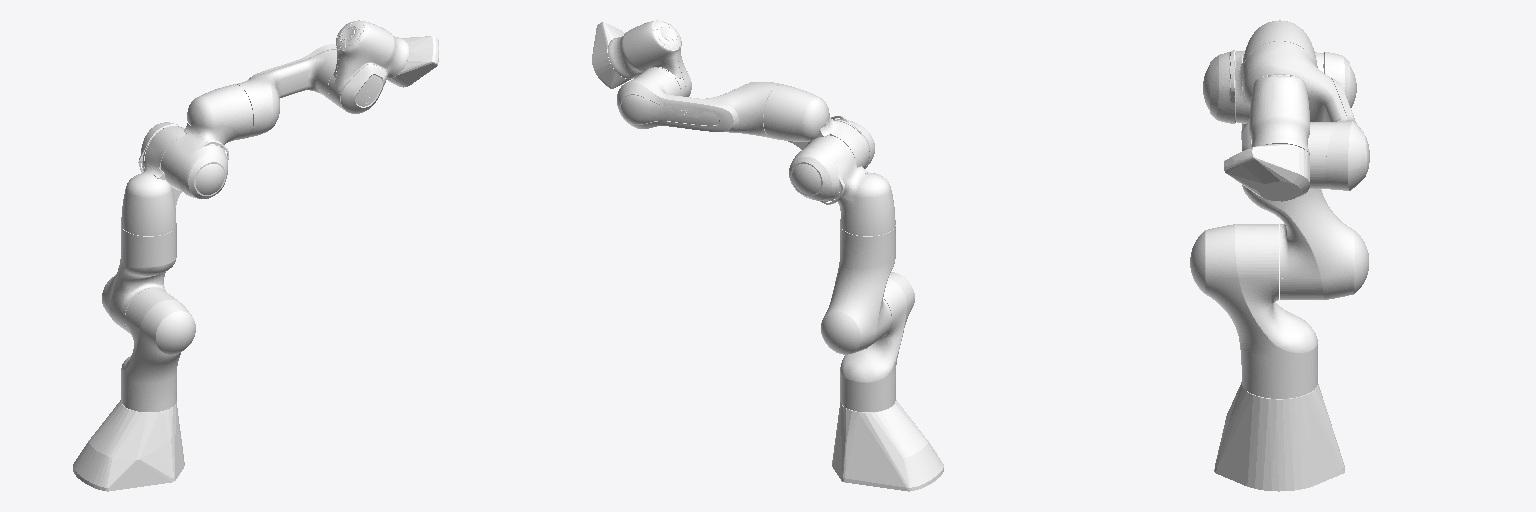
robot.urdf — fr3:
<?xml version="1.0" ?>
<robot name="fr3" xmlns:xacro="http://www.ros.org/wiki/xacro">
  <link name="world"/>
  <joint name="fixed" type="fixed">
    <parent link="world"/>
    <child link="fr3_link0"/>
  </joint>
  <link name="fr3_link0">
    <inertial>
      <origin rpy="0 0 0" xyz="0 0 0.05"/>
      <mass value="2.9"/>
      <inertia ixx="0.1" ixy="0" ixz="0" iyy="0.1" iyz="0" izz="0.1"/>
    </inertial>
    <visual>
      <geometry>
        <mesh filename="meshes/fr3/collision/link0.obj"/>
      </geometry>
      <material name="fr3_white">
        <color rgba="1. 1. 1. 1."/>
      </material>
    </visual>
    <collision>
      <geometry>
        <mesh filename="meshes/fr3/collision/link0.obj"/>
      </geometry>
      <material name="fr3_white"/>
    </collision>
  </link>
  <link name="fr3_link1">
    <inertial>
      <origin rpy="0 0 0" xyz="0 -0.04 -0.05"/>
      <mass value="2.7"/>
      <inertia ixx="0.1" ixy="0" ixz="0" iyy="0.1" iyz="0" izz="0.1"/>
    </inertial>
    <visual>
      <geometry>
        <mesh filename="meshes/fr3/visual/link1.obj"/>
      </geometry>
      <material name="fr3_white"/>
    </visual>
    <collision>
      <geometry>
        <mesh filename="meshes/fr3/collision/link1.obj"/>
      </geometry>
      <material name="fr3_white"/>
    </collision>
  </link>
  <joint name="fr3_joint1" type="revolute">
    <safety_controller k_position="100.0" k_velocity="40.0" soft_lower_limit="-2.3093" soft_upper_limit="2.3093"/>
    <origin rpy="0 0 0" xyz="0 0 0.333"/>
    <parent link="fr3_link0"/>
    <child link="fr3_link1"/>
    <axis xyz="0 0 1"/>
    <limit effort="87.0" lower="-2.3093" upper="2.3093" velocity="2.0"/>
    <dynamics D="1" K="7000" damping="0.003" friction="0.0" mu_coulomb="0" mu_viscous="16"/>
  </joint>
  <link name="fr3_link2">
    <inertial>
      <origin rpy="0 0 0" xyz="0 -0.04 0.06"/>
      <mass value="2.73"/>
      <inertia ixx="0.1" ixy="0" ixz="0" iyy="0.1" iyz="0" izz="0.1"/>
    </inertial>
    <visual>
      <geometry>
        <mesh filename="meshes/fr3/visual/link2.obj"/>
      </geometry>
      <material name="fr3_white"/>
    </visual>
    <collision>
      <geometry>
        <mesh filename="meshes/fr3/collision/link2.obj"/>
      </geometry>
      <material name="fr3_white"/>
    </collision>
  </link>
  <joint name="fr3_joint2" type="revolute">
    <safety_controller k_position="100.0" k_velocity="40.0" soft_lower_limit="-1.5133" soft_upper_limit="1.5133"/>
    <origin rpy="-1.57079632679 0 0" xyz="0 0 0"/>
    <parent link="fr3_link1"/>
    <child link="fr3_link2"/>
    <axis xyz="0 0 1"/>
    <limit effort="87" lower="-1.5133" upper="1.5133" velocity="1.0"/>
    <dynamics D="1" K="7000" damping="0.003" friction="0.0" mu_coulomb="0" mu_viscous="16"/>
  </joint>
  <link name="fr3_link3">
    <inertial>
      <origin rpy="0 0 0" xyz="0.01 0.01 -0.05"/>
      <mass value="2.04"/>
      <inertia ixx="0.1" ixy="0" ixz="0" iyy="0.1" iyz="0" izz="0.1"/>
    </inertial>
    <visual>
      <geometry>
        <mesh filename="meshes/fr3/visual/link3.obj"/>
      </geometry>
      <material name="fr3_red">
        <color rgba="1. 1. 1. 1."/>
      </material>
    </visual>
    <collision>
      <geometry>
        <mesh filename="meshes/fr3/collision/link3.obj"/>
      </geometry>
    </collision>
  </link>
  <joint name="fr3_joint3" type="revolute">
    <safety_controller k_position="100.0" k_velocity="40.0" soft_lower_limit="-2.4937" soft_upper_limit="2.4937"/>
    <origin rpy="1.57079632679 0 0" xyz="0 -0.316 0"/>
    <parent link="fr3_link2"/>
    <child link="fr3_link3"/>
    <axis xyz="0 0 1"/>
    <limit effort="87" lower="-2.4937" upper="2.4937" velocity="1.5"/>
    <dynamics D="1" K="7000" damping="0.003" friction="0.0" mu_coulomb="0" mu_viscous="16"/>
  </joint>
  <link name="fr3_link4">
    <inertial>
      <origin rpy="0 0 0" xyz="-0.03 0.03 0.02"/>
      <mass value="2.08"/>
      <inertia ixx="0.1" ixy="0" ixz="0" iyy="0.1" iyz="0" izz="0.1"/>
    </inertial>
    <visual>
      <geometry>
        <mesh filename="meshes/fr3/visual/link4.obj"/>
      </geometry>
      <material name="fr3_white"/>
    </visual>
    <collision>
      <geometry>
        <mesh filename="meshes/fr3/collision/link4.obj"/>
      </geometry>
      <material name="fr3_white"/>
    </collision>
  </link>
  <joint name="fr3_joint4" type="revolute">
    <safety_controller k_position="100.0" k_velocity="40.0" soft_lower_limit="-2.7478" soft_upper_limit="-0.4461"/>
    <origin rpy="1.57079632679 0 0" xyz="0.0825 0 0"/>
    <parent link="fr3_link3"/>
    <child link="fr3_link4"/>
    <axis xyz="0 0 1"/>
    <limit effort="87" lower="-2.7478" upper="-0.4461" velocity="1.25"/>
    <dynamics D="1" K="7000" damping="0.003" friction="0.0" mu_coulomb="0" mu_viscous="16"/>
  </joint>
  <link name="fr3_link5">
    <inertial>
      <origin rpy="0 0 0" xyz="0 0.04 -0.12"/>
      <mass value="3"/>
      <inertia ixx="0.1" ixy="0" ixz="0" iyy="0.1" iyz="0" izz="0.1"/>
    </inertial>
    <visual>
      <geometry>
        <mesh filename="meshes/fr3/visual/link5.obj"/>
      </geometry>
      <material name="fr3_white"/>
    </visual>
    <collision>
      <geometry>
        <mesh filename="meshes/fr3/collision/link5.obj"/>
      </geometry>
      <material name="fr3_white"/>
    </collision>
  </link>
  <joint name="fr3_joint5" type="revolute">
    <safety_controller k_position="100.0" k_velocity="40.0" soft_lower_limit="-2.48" soft_upper_limit="2.48"/>
    <origin rpy="-1.57079632679 0 0" xyz="-0.0825 0.384 0"/>
    <parent link="fr3_link4"/>
    <child link="fr3_link5"/>
    <axis xyz="0 0 1"/>
    <limit effort="12.0" lower="-2.48" upper="2.48" velocity="3.0"/>
    <dynamics D="1" K="7000" damping="0.003" friction="0.0" mu_coulomb="0" mu_viscous="16"/>
  </joint>
  <link name="fr3_link6">
    <inertial>
      <origin rpy="0 0 0" xyz="0.04 0 0"/>
      <mass value="1.3"/>
      <inertia ixx="0.1" ixy="0" ixz="0" iyy="0.1" iyz="0" izz="0.1"/>
    </inertial>
    <visual>
      <geometry>
        <mesh filename="meshes/fr3/visual/link6.obj"/>
      </geometry>
      <material name="fr3_white"/>
    </visual>
    <collision>
      <geometry>
        <mesh filename="meshes/fr3/collision/link6.obj"/>
      </geometry>
      <material name="fr3_white"/>
    </collision>
  </link>
  <joint name="fr3_joint6" type="revolute">
    <safety_controller k_position="100.0" k_velocity="40.0" soft_lower_limit="0.8521" soft_upper_limit="4.2094"/>
    <origin rpy="1.57079632679 0 0" xyz="0 0 0"/>
    <parent link="fr3_link5"/>
    <child link="fr3_link6"/>
    <axis xyz="0 0 1"/>
    <limit effort="12.0" lower="0.8521" upper="4.2094" velocity="1.5"/>
    <dynamics D="1" K="7000" damping="0.003" friction="0.0" mu_coulomb="0" mu_viscous="16"/>
  </joint>
  <link name="fr3_link7">
    <inertial>
      <origin rpy="0 0 0" xyz="0 0 0.08"/>
      <mass value=".2"/>
      <inertia ixx="0.1" ixy="0" ixz="0" iyy="0.1" iyz="0" izz="0.1"/>
    </inertial>
    <visual>
      <geometry>
        <mesh filename="meshes/fr3/collision/link7.obj"/>
      </geometry>
      <material name="fr3_white"/>
    </visual>
    <collision>
      <geometry>
        <mesh filename="meshes/fr3/collision/link7.obj"/>
      </geometry>
      <material name="fr3_white"/>
    </collision>
  </link>
  <joint name="fr3_joint7" type="revolute">
    <safety_controller k_position="100.0" k_velocity="40.0" soft_lower_limit="-2.6895" soft_upper_limit="2.6895"/>
    <origin rpy="1.57079632679 0 0" xyz="0.088 0 0"/>
    <parent link="fr3_link6"/>
    <child link="fr3_link7"/>
    <axis xyz="0 0 1"/>
    <limit effort="12.0" lower="-2.6895" upper="2.6895" velocity="3.0"/>
    <dynamics D="1" K="7000" damping="0.003" friction="0.0" mu_coulomb="0" mu_viscous="16"/>
  </joint>

  <!-- THE HAND JOINT IS THE BOTTOM OF THE CONNECTOR FLANGE -->

  <joint name="fr3_hand_joint" type="fixed">
    <parent link="fr3_link7"/>
    <child link="fr3_hand"/>
    <origin rpy="0 0 -0.785398163397" xyz="0 0 0.107"/>
  </joint>
  <link name="fr3_hand">
    <!-- <inertial>
      <origin rpy="0 0 0" xyz="0 0 0.04"/>
       <mass value=".81"/>
       <inertia ixx="0.1" ixy="0" ixz="0" iyy="0.1" iyz="0" izz="0.1"/>
    </inertial>
    <visual>
      <geometry>
        <mesh filename="meshes/fr3/visual/hand.obj"/>
      </geometry>
      <material name="fr3_white"/>
    </visual>
    <collision>
      <geometry>
        <mesh filename="meshes/fr3/collision/hand.obj"/>
      </geometry>
      <material name="fr3_white"/>
    </collision> -->
  </link>

  <!-- <link name="fr3_hand_tcp"/>
  <joint name="fr3_hand_tcp_joint" type="fixed">
    <origin rpy="0 0 0" xyz="0 0 0.1034"/>
    <parent link="fr3_hand"/>
    <child link="fr3_hand_tcp"/>
  </joint>
  <link name="fr3_leftfinger">
    <visual>
      <geometry>
        <mesh filename="meshes/fr3/visual/finger.obj"/>
      </geometry>
    </visual>
    <collision>
      <origin rpy="0 0 0" xyz="0 18.5e-3 11e-3"/>
      <geometry>
        <box size="22e-3 15e-3 20e-3"/>
      </geometry>
    </collision>
    <collision>
      <origin rpy="0 0 0" xyz="0 6.8e-3 2.2e-3"/>
      <geometry>
        <box size="22e-3 8.8e-3 3.8e-3"/>
      </geometry>
    </collision>
    <collision>
      <origin rpy="0.5235987755982988 0 0" xyz="0 15.9e-3 28.35e-3"/>
      <geometry>
        <box size="17.5e-3 7e-3 23.5e-3"/>
      </geometry>
    </collision>
    <collision>
      <origin rpy="0 0 0" xyz="0 7.58e-3 45.25e-3"/>
      <geometry>
        <box size="17.5e-3 15.2e-3 18.5e-3"/>
      </geometry>
    </collision>
  </link>
  <link name="fr3_rightfinger">
    <visual>
      <origin rpy="0 0 3.141592653589793" xyz="0 0 0"/>
      <geometry>
        <mesh filename="meshes/fr3/visual/finger.obj"/>
      </geometry>
    </visual>
    <collision>
      <origin rpy="0 0 0" xyz="0 -18.5e-3 11e-3"/>
      <geometry>
        <box size="22e-3 15e-3 20e-3"/>
      </geometry>
    </collision>
    <collision>
      <origin rpy="0 0 0" xyz="0 -6.8e-3 2.2e-3"/>
      <geometry>
        <box size="22e-3 8.8e-3 3.8e-3"/>
      </geometry>
    </collision>
    <collision>
      <origin rpy="-0.5235987755982988 0 0" xyz="0 -15.9e-3 28.35e-3"/>
      <geometry>
        <box size="17.5e-3 7e-3 23.5e-3"/>
      </geometry>
    </collision>
    <collision>
      <origin rpy="0 0 0" xyz="0 -7.58e-3 45.25e-3"/>
      <geometry>
        <box size="17.5e-3 15.2e-3 18.5e-3"/>
      </geometry>
    </collision>
  </link>
  <joint name="fr3_finger_joint1" type="prismatic">
    <parent link="fr3_hand"/>
    <child link="fr3_leftfinger"/>
    <origin rpy="0 0 0" xyz="0 0 0.0584"/>
    <axis xyz="0 1 0"/>
    <limit effort="100" lower="0.0" upper="0.04" velocity="0.2"/>
    <dynamics damping="0.3"/>
  </joint>
  <joint name="fr3_finger_joint2" type="prismatic">
    <parent link="fr3_hand"/>
    <child link="fr3_rightfinger"/>
    <origin rpy="0 0 0" xyz="0 0 0.0584"/>
    <axis xyz="0 -1 0"/>
    <limit effort="100" lower="0.0" upper="0.04" velocity="0.2"/>
    <mimic joint="fr3_finger_joint1"/>
    <dynamics damping="0.3"/>
  </joint> -->

</robot>

--- Facts derived from the render (not from the file) ---
The picture shows the robot from 3 angles, left to right: view 1: azimuth 30°, elevation 25°; view 2: azimuth 150°, elevation 25°; view 3: azimuth 270°, elevation 25°; orthographic projection.
Model fr3 with 10 links and 9 joints (7 revolute, 2 fixed), rooted at world, posed joints at zero except 2 at the middle of their limits (fr3_joint4 = -1.6, fr3_joint6 = 2.53).
Visible links, largest first — view 1: fr3_link0, fr3_link1, fr3_link4, fr3_link6, fr3_link3, fr3_link5, fr3_link2, fr3_link7; view 2: fr3_link0, fr3_link5, fr3_link2, fr3_link3, fr3_link1, fr3_link4, fr3_link6, fr3_link7; view 3: fr3_link1, fr3_link0, fr3_link2, fr3_link5, fr3_link6, fr3_link4, fr3_link7, fr3_link3.
Link boxes in pixels (left/top/right/bottom): fr3_link0: left=73, top=400, right=184, bottom=491; fr3_link1: left=121, top=288, right=195, bottom=411; fr3_link4: left=161, top=84, right=252, bottom=198; fr3_link6: left=328, top=20, right=408, bottom=113; fr3_link3: left=121, top=122, right=185, bottom=235; fr3_link5: left=237, top=44, right=336, bottom=137; fr3_link2: left=102, top=225, right=176, bottom=332; fr3_link7: left=387, top=36, right=438, bottom=87; fr3_link0: left=832, top=400, right=943, bottom=491; fr3_link5: left=617, top=67, right=779, bottom=137; fr3_link2: left=821, top=225, right=895, bottom=354; fr3_link3: left=789, top=135, right=895, bottom=235; fr3_link1: left=840, top=272, right=914, bottom=411; fr3_link4: left=763, top=84, right=874, bottom=168; fr3_link6: left=608, top=20, right=691, bottom=96; fr3_link7: left=592, top=22, right=630, bottom=88; fr3_link1: left=1190, top=224, right=1317, bottom=398; fr3_link0: left=1214, top=382, right=1344, bottom=491; fr3_link2: left=1242, top=185, right=1368, bottom=299; fr3_link5: left=1242, top=41, right=1369, bottom=190; fr3_link6: left=1241, top=74, right=1309, bottom=154; fr3_link4: left=1203, top=20, right=1317, bottom=123; fr3_link7: left=1224, top=144, right=1309, bottom=201; fr3_link3: left=1242, top=52, right=1356, bottom=128.
Size in the robot's own frame: 0.7983 by 0.2593 by 0.8578 metres.
8 mesh visuals loaded from 8 distinct referenced files (8 OBJ).